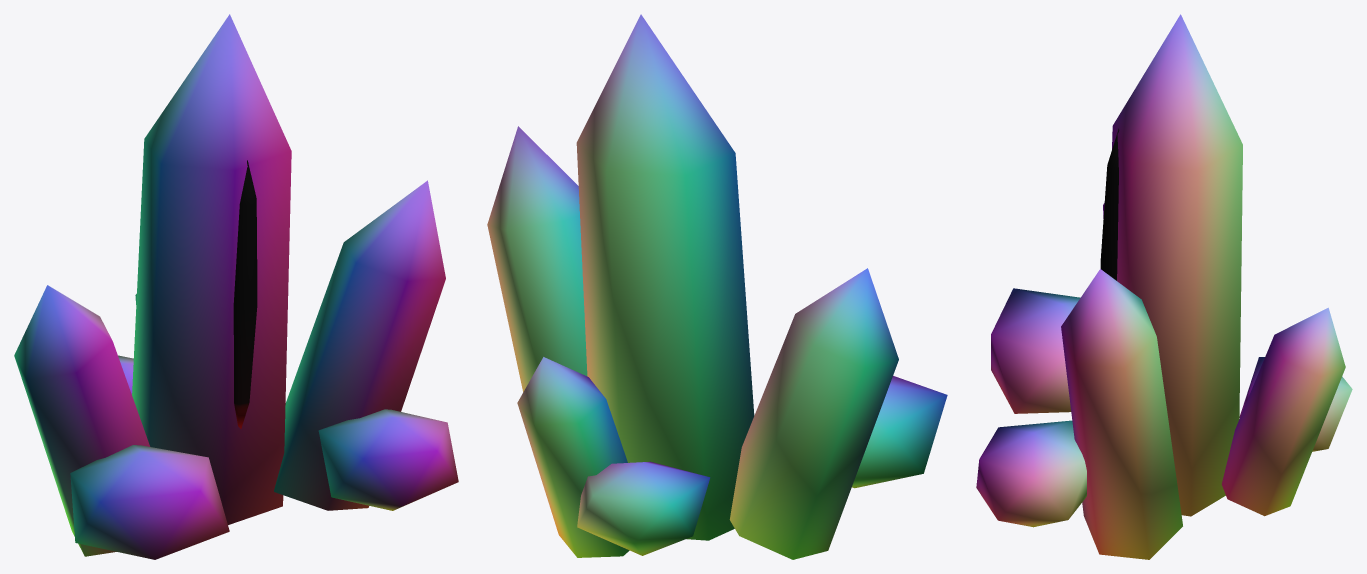
File: SM_Prop_Lore_CrystalShard.fbx
3 views of the same model, side by side, from view 1: azimuth 30°, elevation 25°; view 2: azimuth 150°, elevation 25°; view 3: azimuth 270°, elevation 25° (orthographic). The views are drawn at different scales.
Parts seen in each view (by area): view 1: SM_Prop_Lore_CrystalShard; view 2: SM_Prop_Lore_CrystalShard; view 3: SM_Prop_Lore_CrystalShard.
Boxes of the visible parts, x1,y1,x2,y2 form: SM_Prop_Lore_CrystalShard: (14, 14, 458, 559); SM_Prop_Lore_CrystalShard: (487, 14, 947, 559); SM_Prop_Lore_CrystalShard: (976, 14, 1352, 559).
Size of the model in its own units: 0.6805 by 0.7937 by 0.5481.
